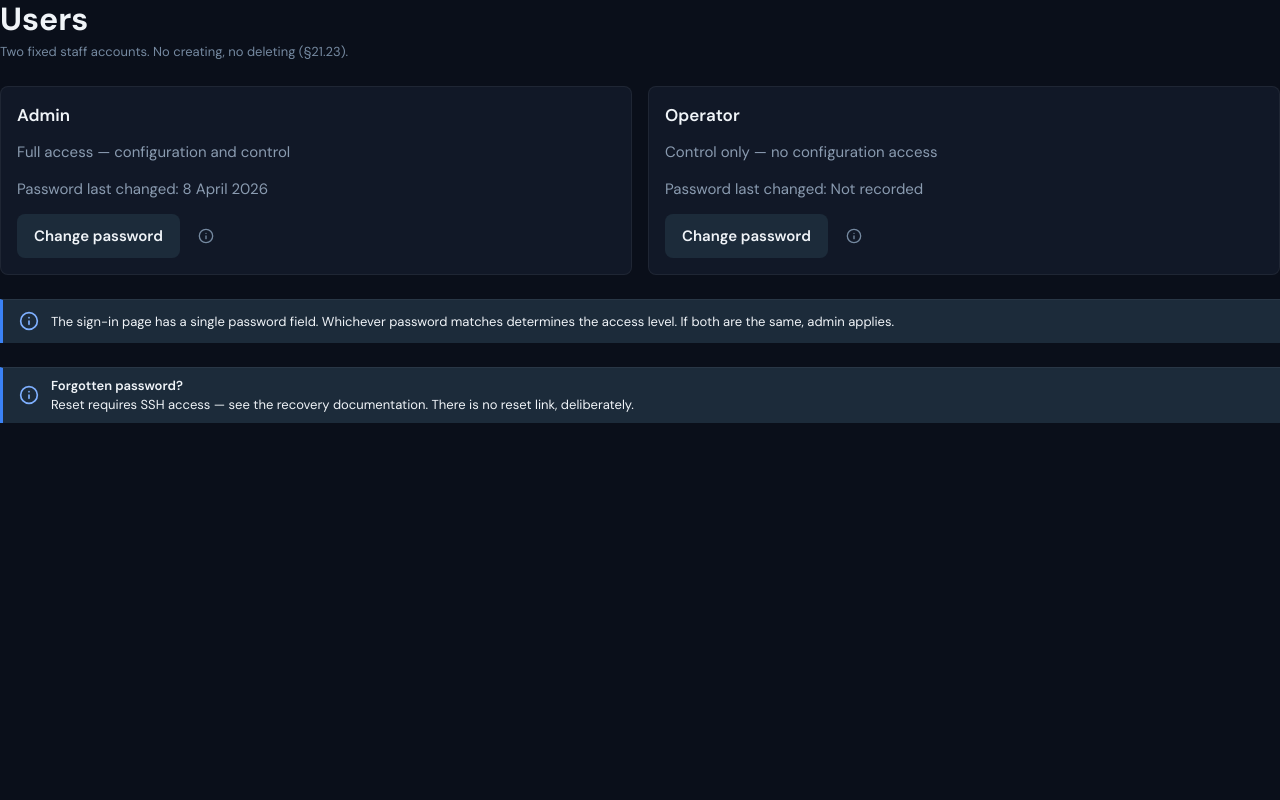
UsersScreen › shows the incorrect-password error inline and keeps the dialog open
Click the button "Change password" below "8 April 2026" at point(98, 236), box [17,214,180,258]
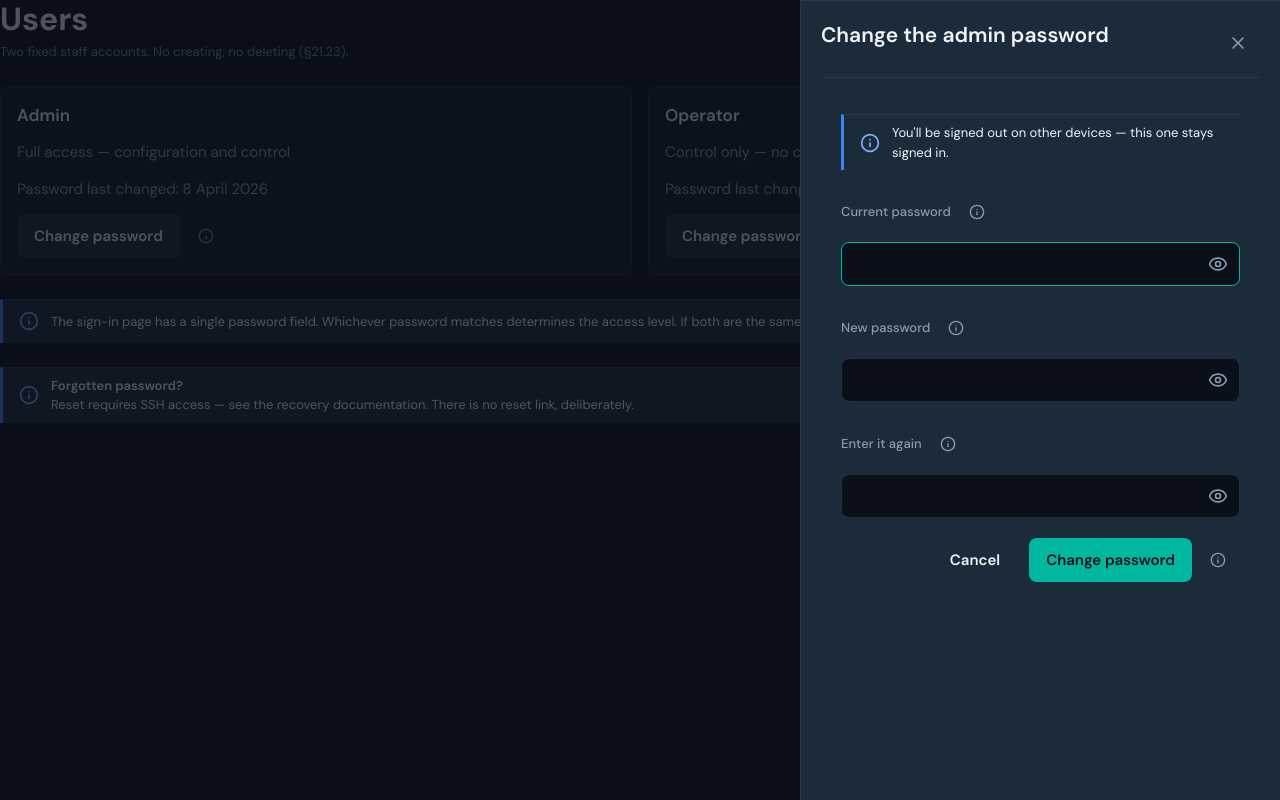
Result: the heading "Change the admin password" is shown at [821,21,1109,50]
Type "wrong" into the password field labelled "Current password" at point(1040, 264), box [841,242,1240,286]
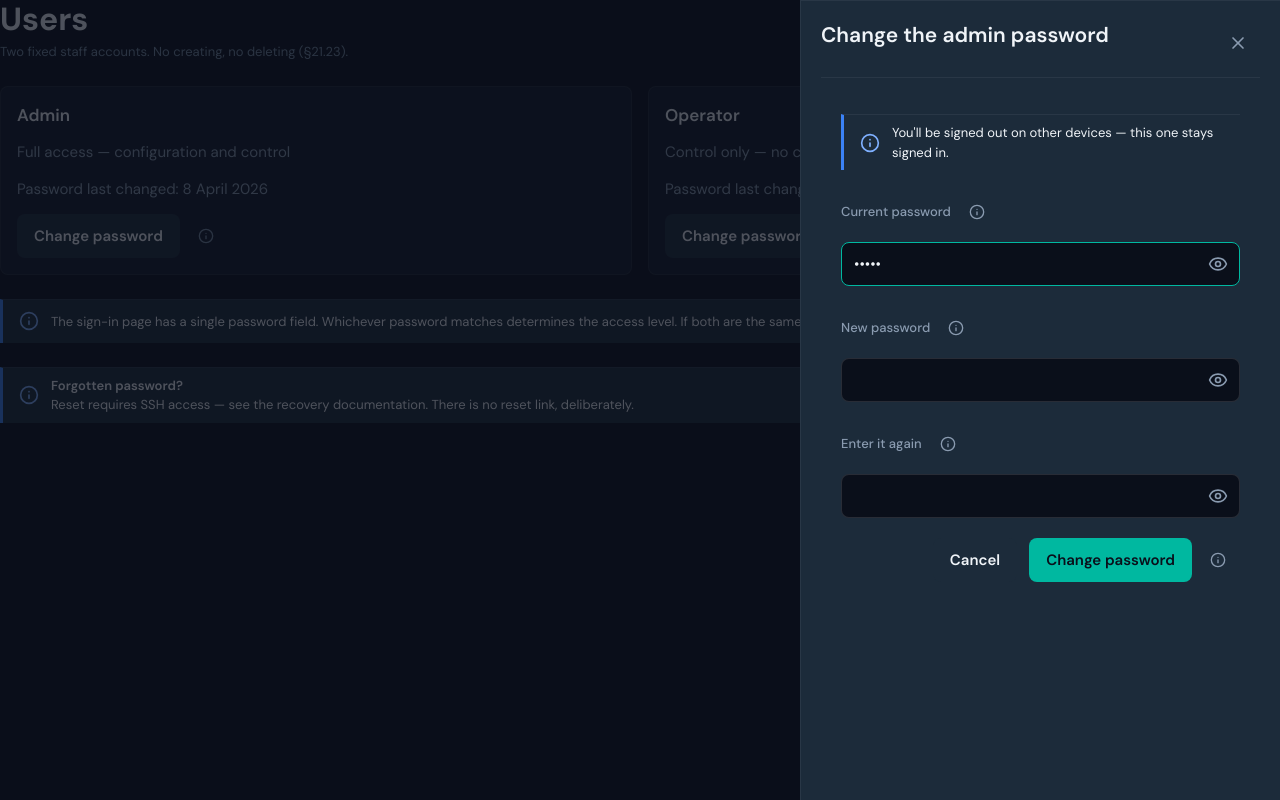
Type "a-new-admin-password" into the password field labelled "New password" at point(1040, 380), box [841,358,1240,402]
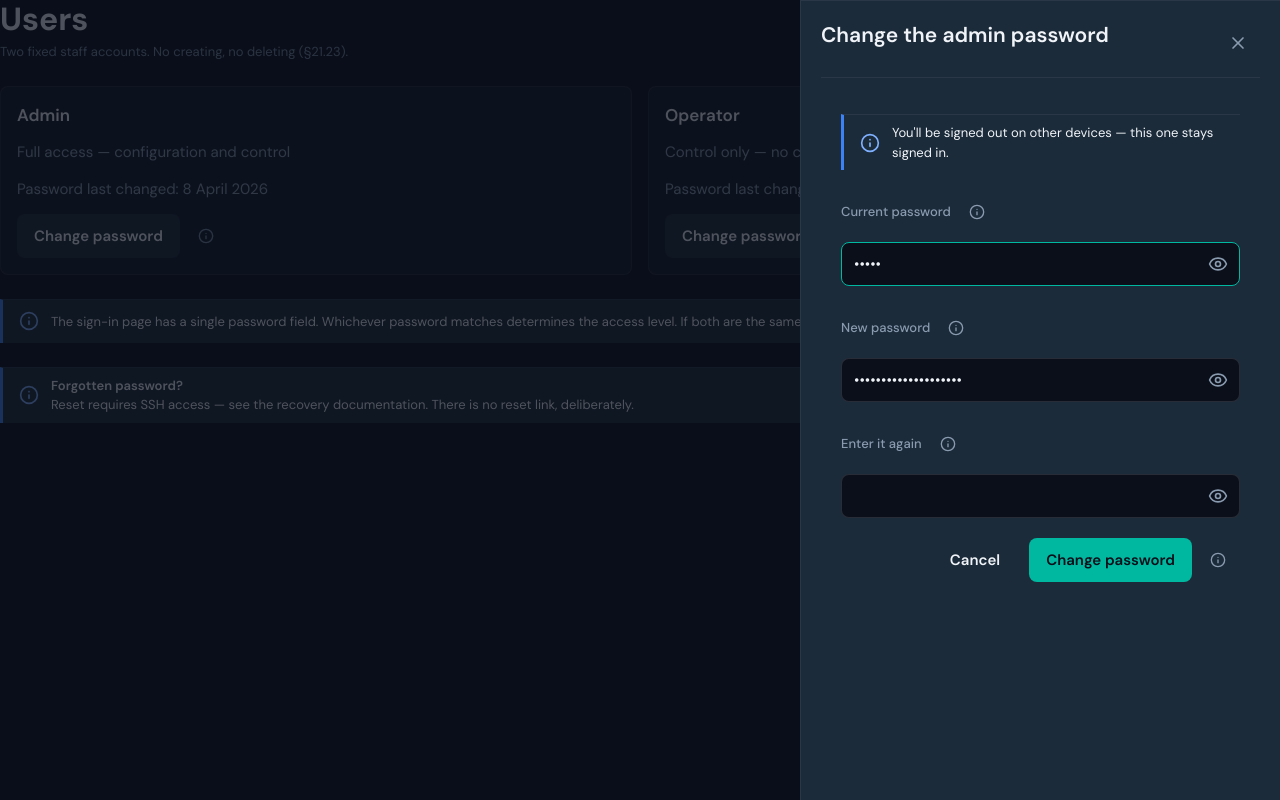
Type "a-new-admin-password" into the password field labelled "Enter it again" at point(1040, 496), box [841,474,1240,518]
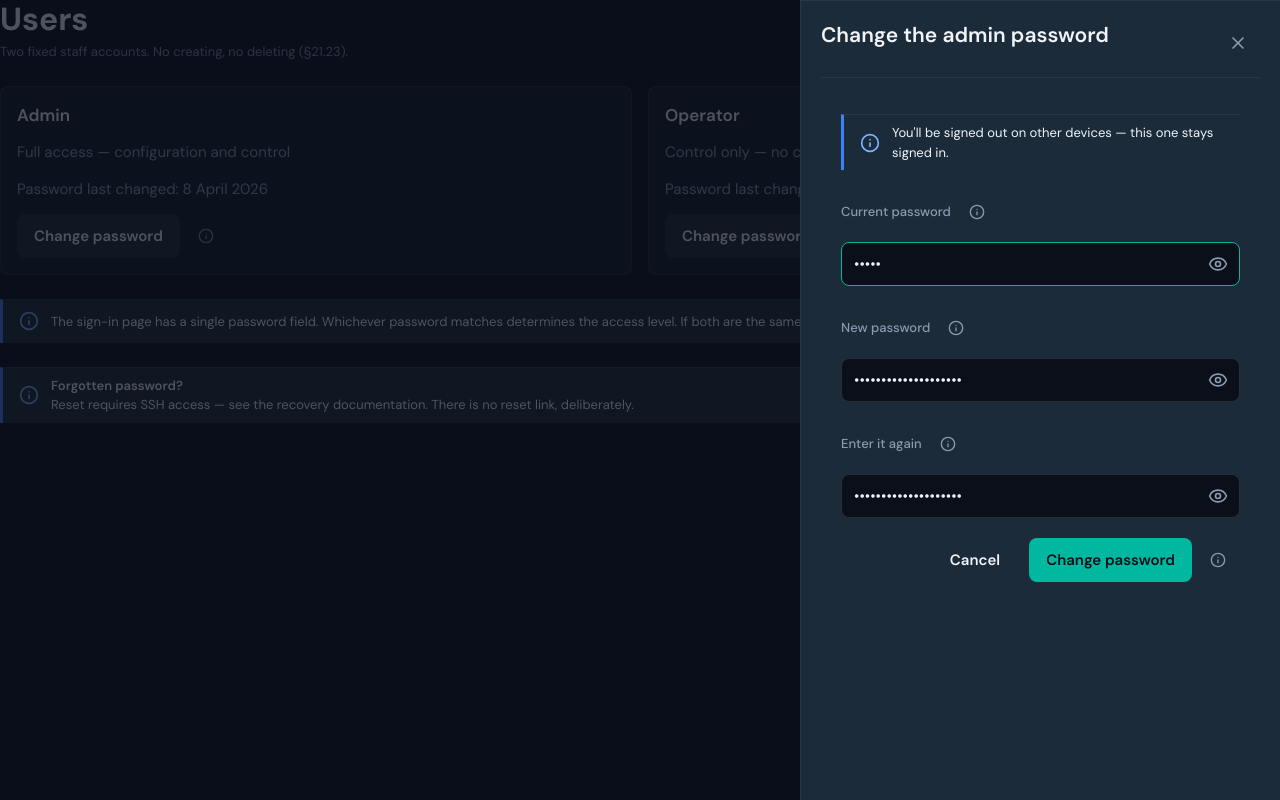
Click the button "Change password" at point(1111, 560), box [1029,538,1192,582]
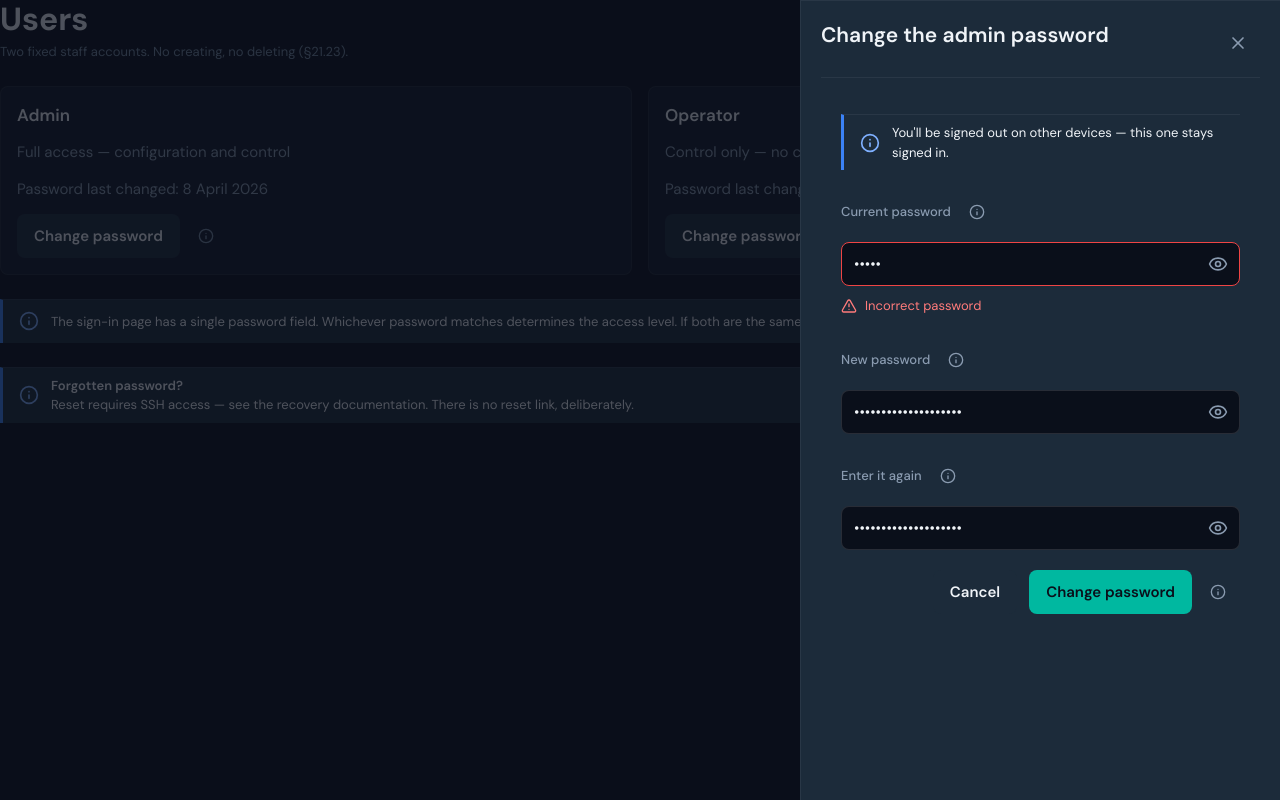
Result: the heading "Change the admin password" is shown at [821,21,1109,50]
Result: the text "Incorrect password" is shown at [865,296,981,316]
